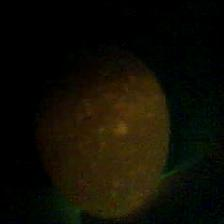fertile: (35, 36, 169, 219)
